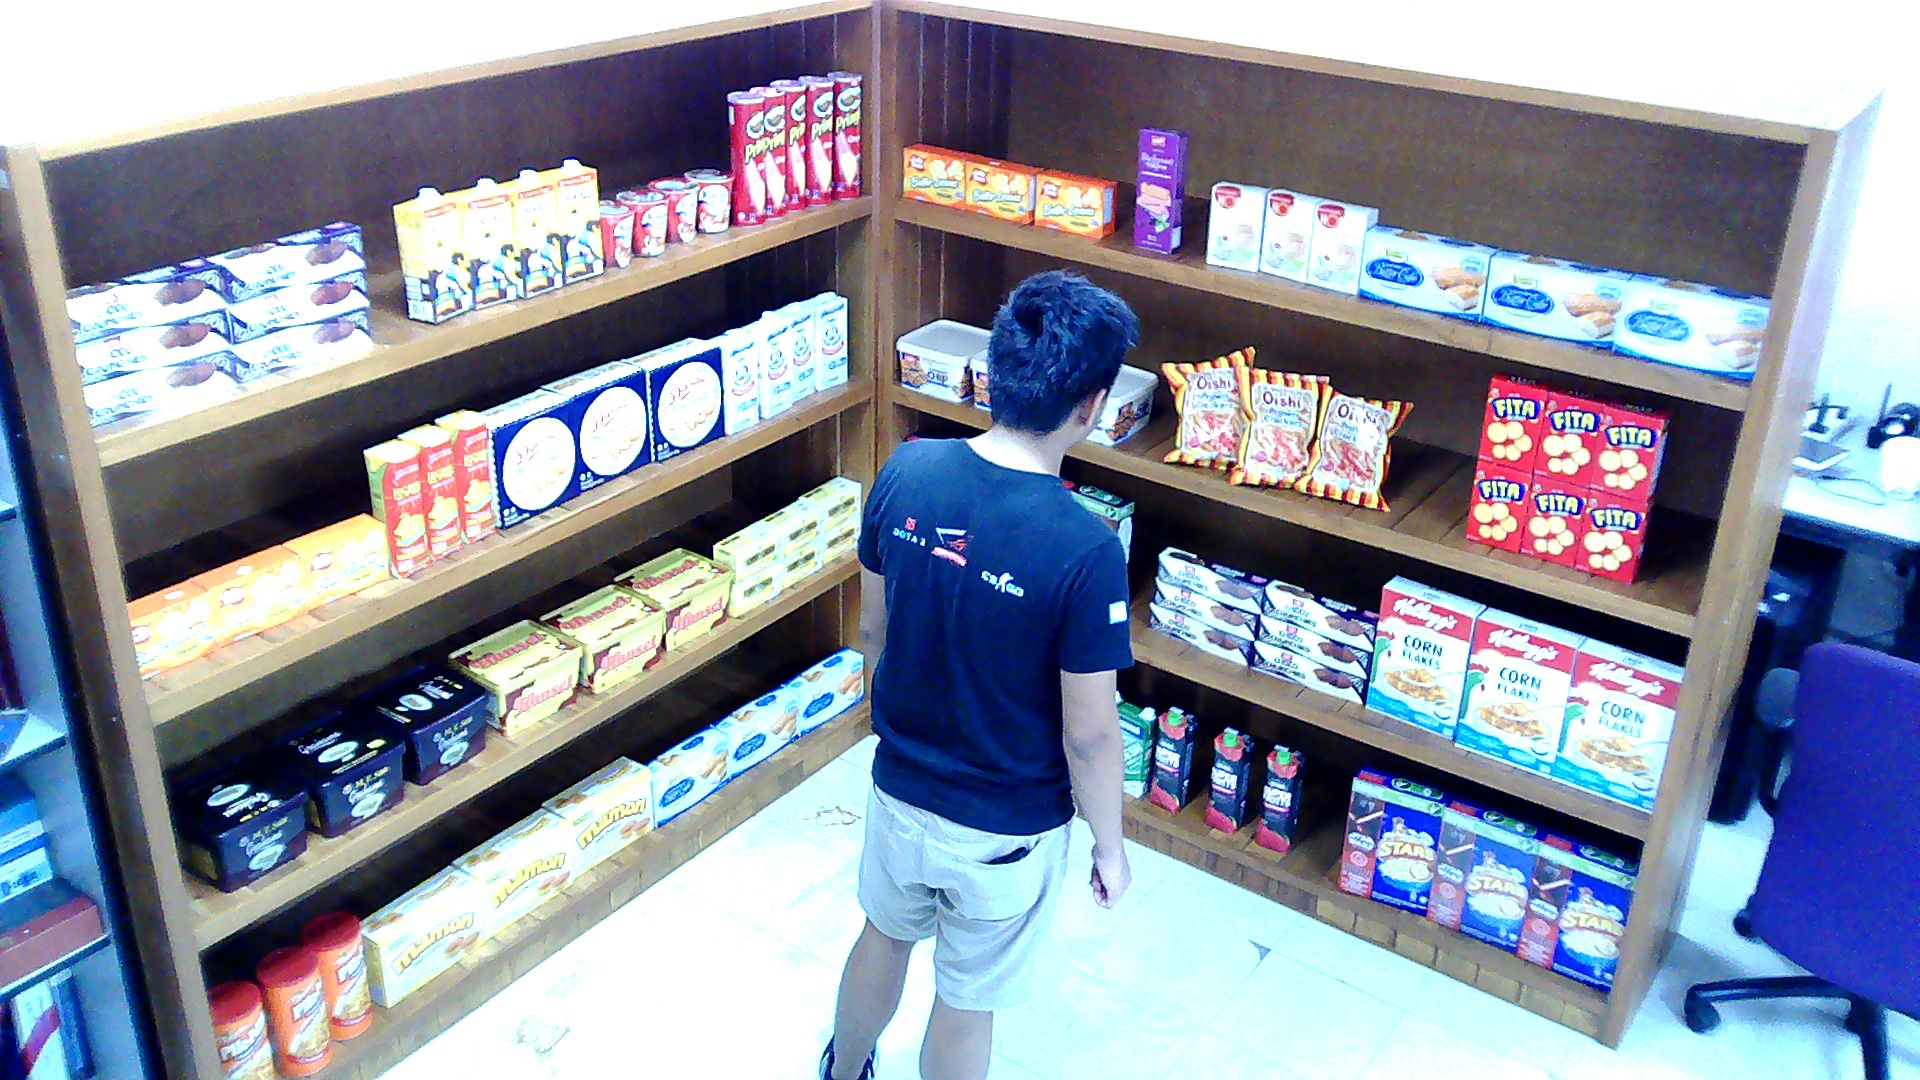Bear brand: (705, 326, 759, 432), (744, 308, 792, 418), (800, 290, 845, 389), (773, 301, 812, 402)
Buttercake: (1611, 272, 1770, 380), (1478, 249, 1631, 350), (1359, 224, 1497, 321), (642, 724, 732, 825), (708, 686, 798, 778), (780, 646, 864, 736)
Butterlicious: (188, 544, 305, 647), (279, 512, 387, 611), (126, 580, 216, 679), (1034, 168, 1115, 236), (963, 155, 1041, 223), (903, 142, 978, 210)
Camomille: (710, 519, 779, 582), (761, 497, 824, 558), (798, 474, 858, 533), (729, 562, 780, 616), (783, 537, 825, 586), (824, 517, 857, 562)
Choco Crunchies: (203, 218, 362, 304), (65, 256, 224, 342), (84, 348, 234, 427), (74, 308, 227, 384), (233, 306, 368, 382), (228, 270, 366, 342), (1260, 578, 1377, 650), (1257, 614, 1371, 679), (1157, 546, 1268, 611), (1250, 641, 1367, 702), (1149, 602, 1251, 665), (1155, 578, 1257, 639)
Chocolate Chips: (894, 317, 984, 400), (1088, 364, 1157, 445)
Chuckie: (393, 186, 468, 323), (444, 175, 516, 308), (495, 169, 561, 299), (537, 158, 603, 284)
Danisa: (539, 360, 650, 490), (477, 389, 579, 529), (621, 335, 723, 461)
Fita: (1590, 396, 1671, 502), (1476, 371, 1554, 472), (1533, 384, 1611, 485), (1575, 488, 1653, 582), (1520, 475, 1589, 567), (1467, 459, 1533, 551)
Fresh Milk: (1119, 702, 1155, 796)
Grahams: (165, 753, 309, 890), (257, 709, 404, 837), (353, 661, 488, 783)
Hansel: (447, 618, 582, 735), (537, 585, 663, 693), (611, 547, 734, 650)
Head: (959, 260, 1142, 485)
Honey Stars: (1425, 794, 1551, 954), (1518, 830, 1638, 992), (1338, 764, 1452, 915)
Kellogg Corn Flakes: (1551, 636, 1683, 812), (1454, 607, 1583, 776), (1365, 576, 1485, 738)
Kimchi Noodles: (645, 177, 699, 242), (681, 166, 735, 231), (615, 187, 666, 255), (600, 198, 633, 268)
Locally Mango: (363, 438, 429, 575), (396, 423, 462, 558), (435, 407, 495, 542)
Mamon: (360, 864, 489, 1008), (449, 808, 572, 936), (540, 756, 654, 875)
Oishi Prawn: (1293, 381, 1413, 511), (1227, 362, 1329, 486), (1161, 344, 1257, 468)
Pik-nik: (255, 945, 333, 1075), (302, 911, 371, 1039), (206, 980, 275, 1077)
Pringles: (725, 89, 764, 224), (795, 75, 834, 205), (768, 79, 804, 209), (750, 85, 786, 218), (825, 70, 861, 198)
Super Fruits: (1253, 743, 1304, 853), (1149, 704, 1197, 812), (1206, 727, 1251, 833)
Wafer: (1134, 126, 1188, 252)
iHop: (1308, 197, 1377, 294), (1260, 189, 1326, 281), (1205, 180, 1268, 270)
